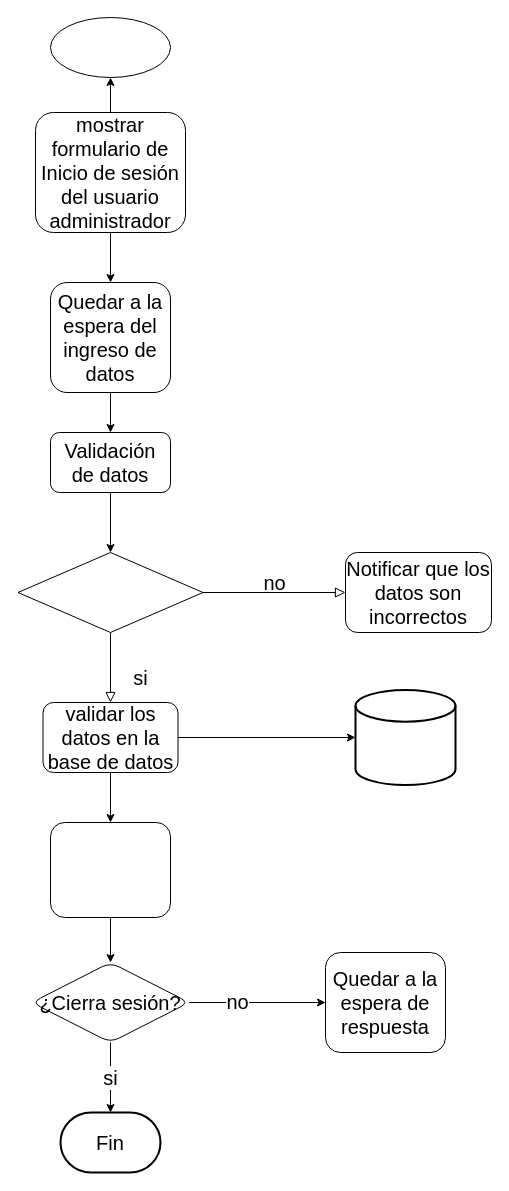
The diagram is 509 pixels wide and 1191 high, and some of its shapes have lost their labels. The box of each missing label's shape, as (x1, y1, x2, y2) in pixels:
Base de datos: (354, 688, 456, 786)
Inicio: (50, 16, 170, 78)
Notificar que el ingreso fue exitoso: (50, 822, 170, 918)
¿Datos correctos?: (17, 552, 203, 632)
